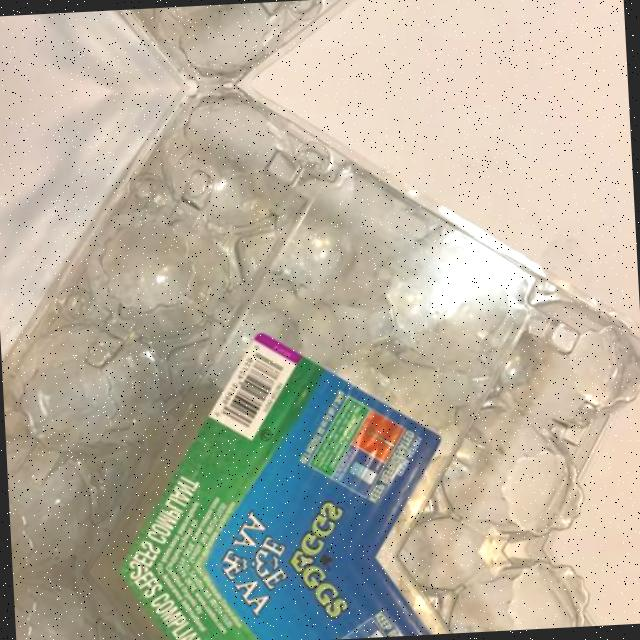Plastic: (0, 63, 640, 576), (0, 0, 627, 97), (13, 543, 640, 640)
